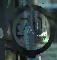Speed limit: (10, 3, 50, 53)
